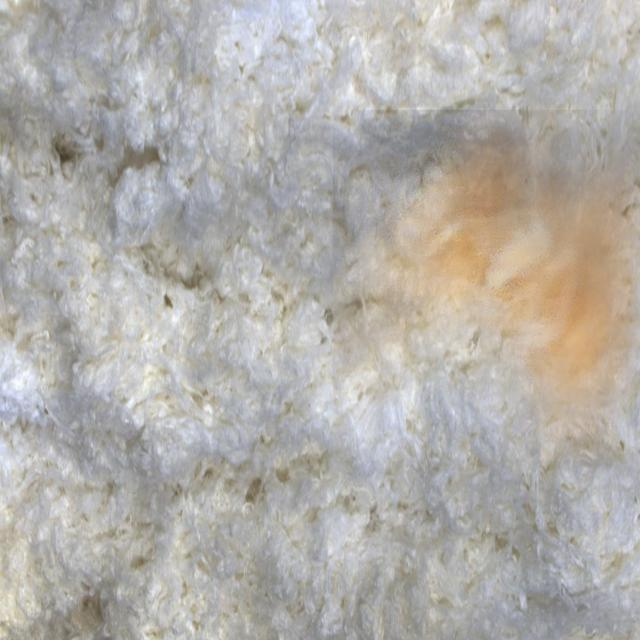dust: (333, 110, 640, 461)
